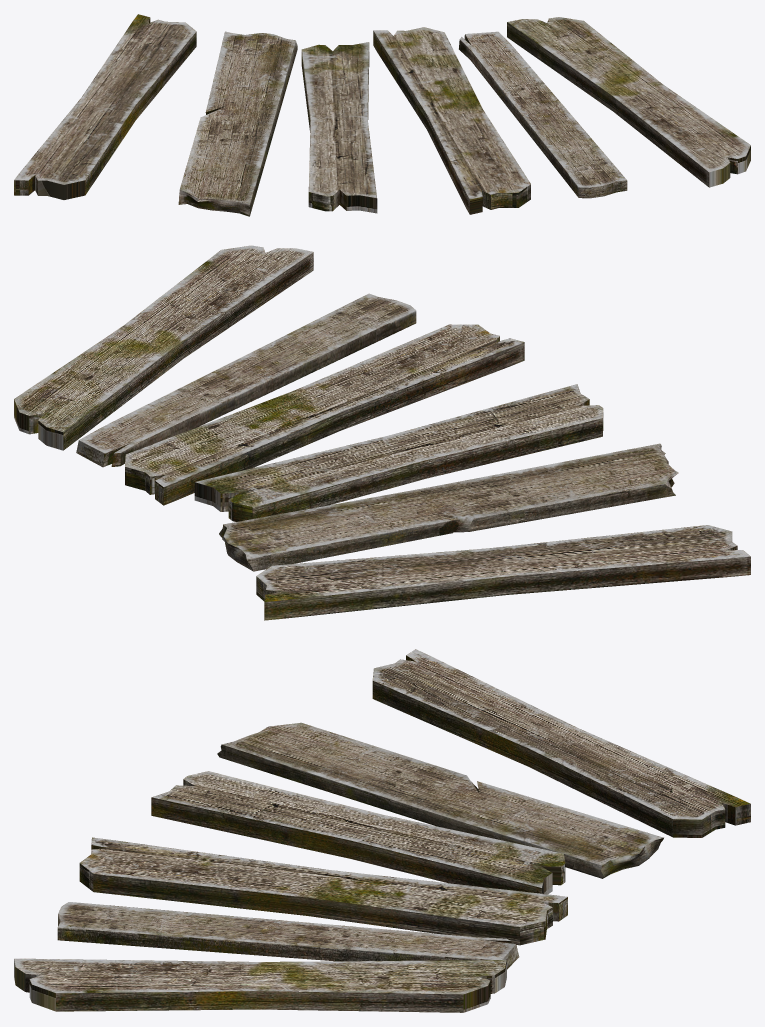
Rendered from WoodRoadTurn_2.fbx.
3 views of the same model, one above another, from view 1: azimuth 30°, elevation 25°; view 2: azimuth 150°, elevation 25°; view 3: azimuth 270°, elevation 25° (orthographic). The views are drawn at different scales.
Parts seen in each view (by area): view 1: prim1; view 2: prim1; view 3: prim1.
Part boxes in pixels (bbox=[...]): prim1: bbox=[14, 14, 750, 216]; prim1: bbox=[14, 245, 750, 620]; prim1: bbox=[14, 649, 750, 1012].
Size of the model in its own units: 311 by 8.63 by 279.
